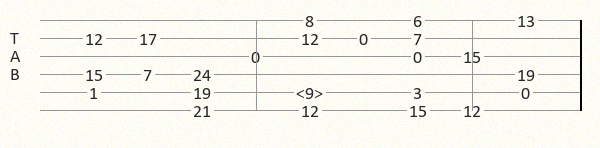0: (251, 49, 264, 64), (359, 31, 372, 46), (413, 49, 426, 64), (521, 85, 534, 100)
1: (89, 85, 102, 100)
12: (85, 31, 107, 46), (301, 31, 323, 46), (301, 103, 323, 118), (463, 103, 485, 118)
13: (517, 13, 539, 28)
15: (85, 67, 107, 82), (409, 103, 431, 118), (463, 49, 485, 64)
17: (139, 31, 161, 46)
19: (193, 85, 215, 100), (517, 67, 539, 82)
21: (193, 103, 215, 118)
24: (193, 67, 215, 82)
3: (413, 85, 426, 100)
6: (413, 13, 426, 28)
7: (143, 67, 156, 82), (413, 31, 426, 46)
8: (305, 13, 318, 28)
harmonic: (296, 85, 327, 100)
